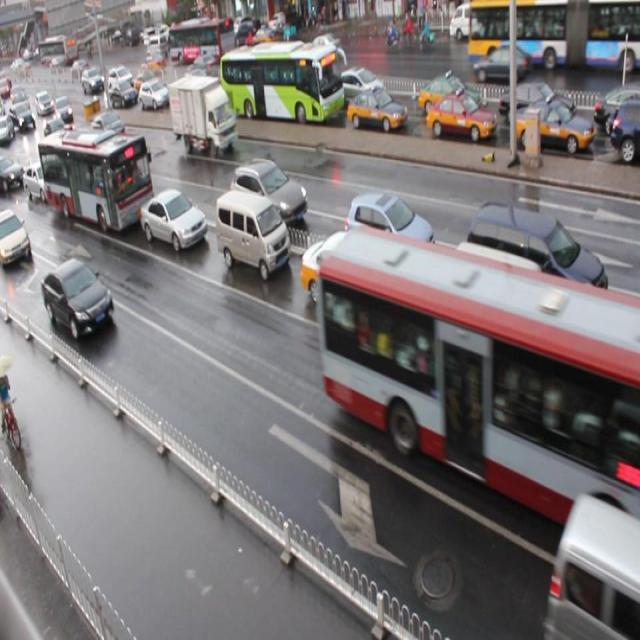bus: (168, 74, 237, 161)
car: (299, 228, 402, 322), (344, 193, 433, 272), (230, 156, 307, 233), (41, 259, 114, 340), (514, 99, 594, 159), (138, 187, 206, 252), (425, 92, 496, 144), (499, 82, 573, 128), (608, 331, 640, 435), (415, 76, 479, 120), (345, 87, 406, 133), (333, 65, 390, 110), (589, 91, 640, 135), (0, 208, 32, 271), (608, 99, 640, 160), (21, 158, 60, 203), (92, 111, 127, 147), (180, 82, 219, 114), (222, 69, 255, 104), (178, 69, 216, 97), (139, 80, 171, 111), (46, 119, 70, 152), (1, 156, 24, 188), (109, 81, 134, 110), (134, 69, 159, 93)
truck: (438, 240, 566, 388), (465, 200, 607, 332), (550, 493, 640, 633), (213, 187, 289, 281)
van: (320, 223, 640, 556), (37, 126, 154, 235), (216, 42, 339, 125)
